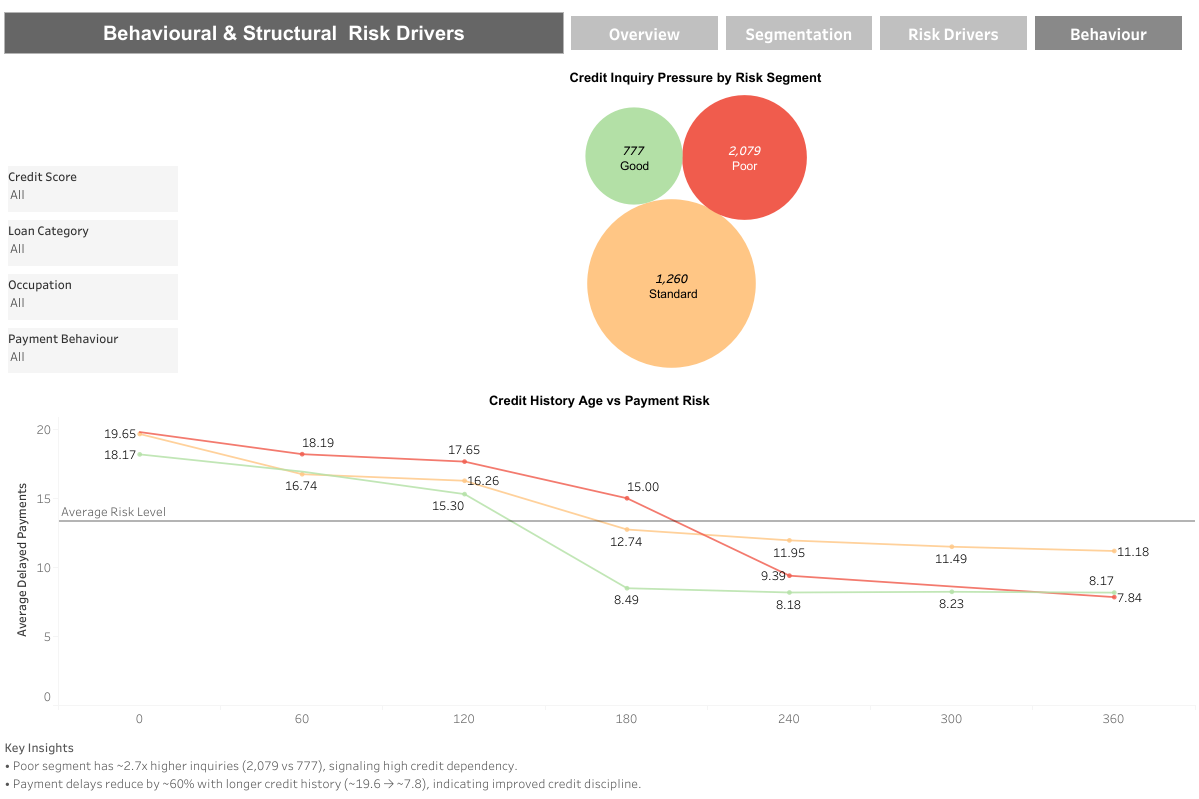

Layout of this report page (visuals, bound fields, positions):
{"tool":"tableau","page":{"name":"Behavioural & Structural Risk Drivers","canvas":[1200,800],"ordinal":0},"visuals":[{"type":"text","box":[4,12,560,42]},{"type":"dashboard-object","box":[567,12,154.7,42]},{"type":"dashboard-object","box":[721.7,12,154.7,42]},{"type":"dashboard-object","box":[876.5,12,154.7,42]},{"type":"dashboard-object","box":[1031.2,12,154.8,42]},{"type":"worksheet","title":"Inquiry Pressure vs Credit Risk","mark":"Circle","box":[214,64,964,304]},{"type":"filter","title":"Inquiry Pressure vs Credit Risk","param":"[federated.15f112y1ovy6xx0zsyzso0p85ix3].[none:Credit_Score:nk]","box":[4,162,178,54]},{"type":"filter","title":"Inquiry Pressure vs Credit Risk","param":"[federated.15f112y1ovy6xx0zsyzso0p85ix3].[none:Calculation_1417508029693423616:n","box":[4,216,178,54]},{"type":"filter","title":"Inquiry Pressure vs Credit Risk","param":"[federated.15f112y1ovy6xx0zsyzso0p85ix3].[none:Occupation:nk]","box":[4,270,178,54]},{"type":"filter","title":"Inquiry Pressure vs Credit Risk","param":"[federated.15f112y1ovy6xx0zsyzso0p85ix3].[none:Payment_Behaviour:nk]","box":[4,324,178,53]},{"type":"worksheet","title":"Credit History Maturity vs Risk","mark":"Line","rows":["Num_of_Delayed_Payment"],"cols":["Credit History Age (bin)"],"box":[5,387,1190,340]},{"type":"text","box":[2,734,647,61]}]}

Visuals, with their boxes in screenshot pixels (x1, y1, x2, y2), scaled from the page's 1200x800 canvas onto the 1199x799 screenshot:
text: (4, 12, 564, 54)
dashboard-object: (567, 12, 721, 54)
dashboard-object: (721, 12, 876, 54)
dashboard-object: (876, 12, 1030, 54)
dashboard-object: (1030, 12, 1185, 54)
"Inquiry Pressure vs Credit Risk" worksheet (Circle marks): (214, 64, 1177, 368)
"Inquiry Pressure vs Credit Risk" filter: (4, 162, 182, 216)
"Inquiry Pressure vs Credit Risk" filter: (4, 216, 182, 270)
"Inquiry Pressure vs Credit Risk" filter: (4, 270, 182, 324)
"Inquiry Pressure vs Credit Risk" filter: (4, 324, 182, 377)
"Credit History Maturity vs Risk" worksheet (Line marks): (5, 387, 1194, 726)
text: (2, 733, 648, 794)
